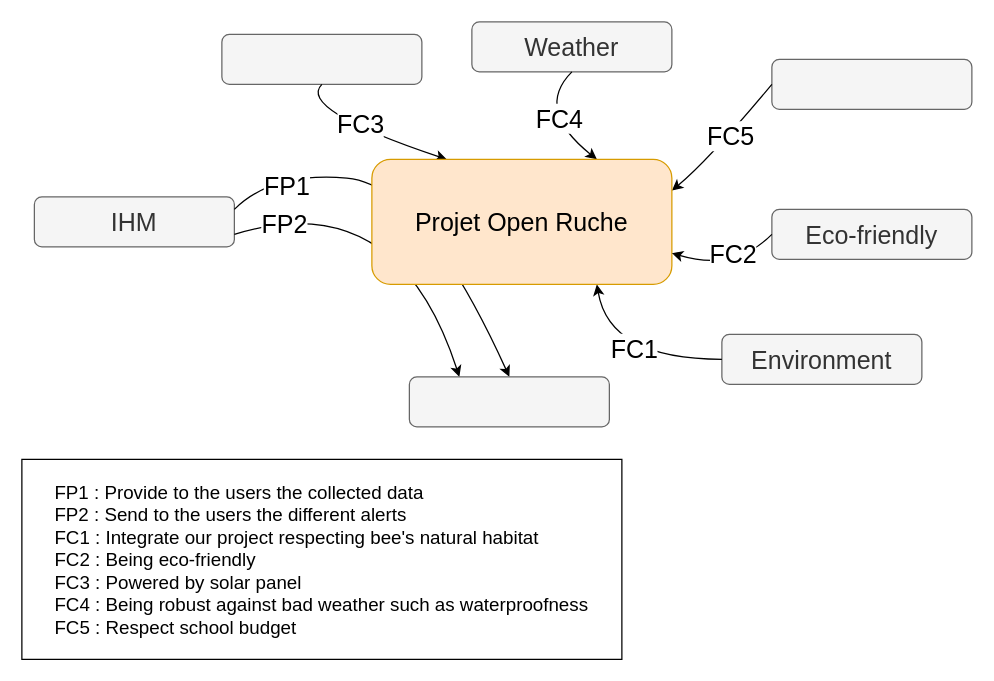
Image size: 994x681. Some labels were removed from this diagram. Each missing label, with the centre of its shape:
"Autonomy" belongs at point (321, 58).
"Budget" belongs at point (871, 83).
"Users" belongs at point (508, 401).
